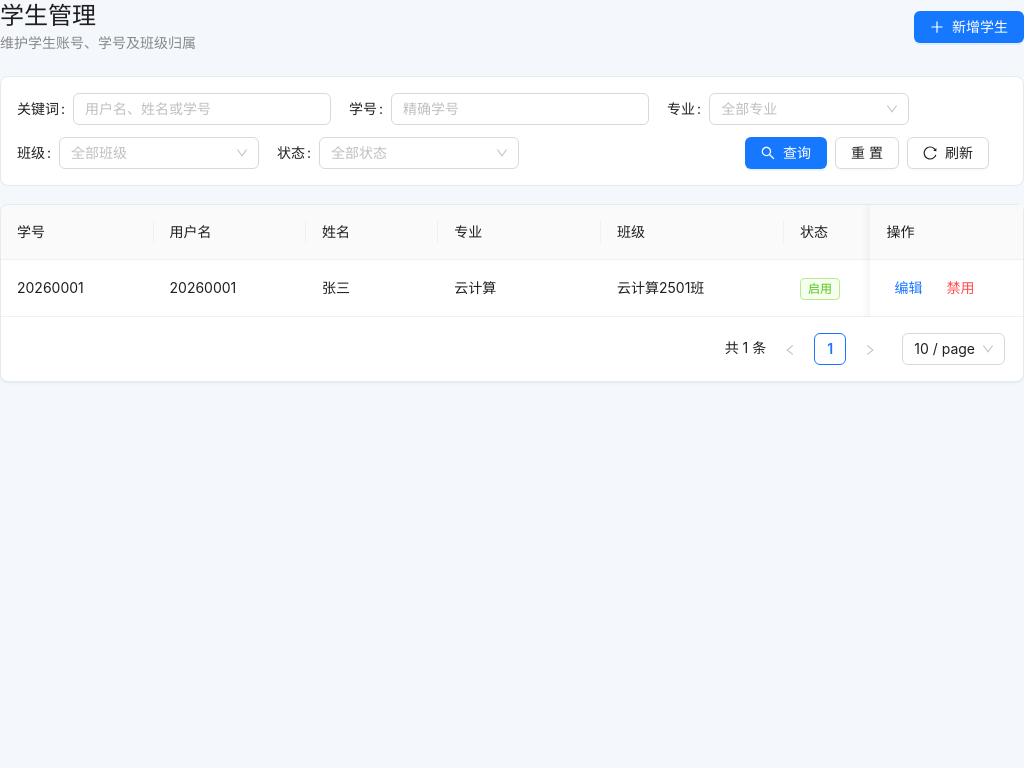
Test case: student management › loads only the selected major active classes
The image size is (1024, 768).
Expected: the text "张三" is shown, [306,260,438,317]
Click the button "新增学生" at [969, 27], box [914,11,1023,43]
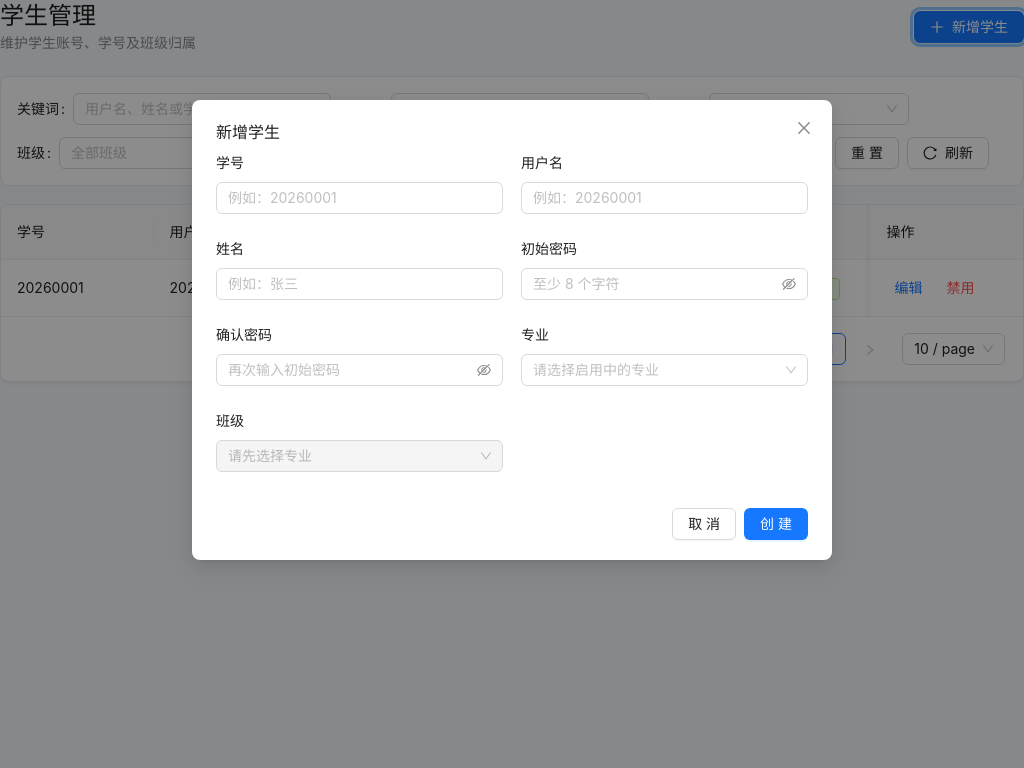
Click the dropdown labelled "专业" at [656, 370], box [533,355,778,385]
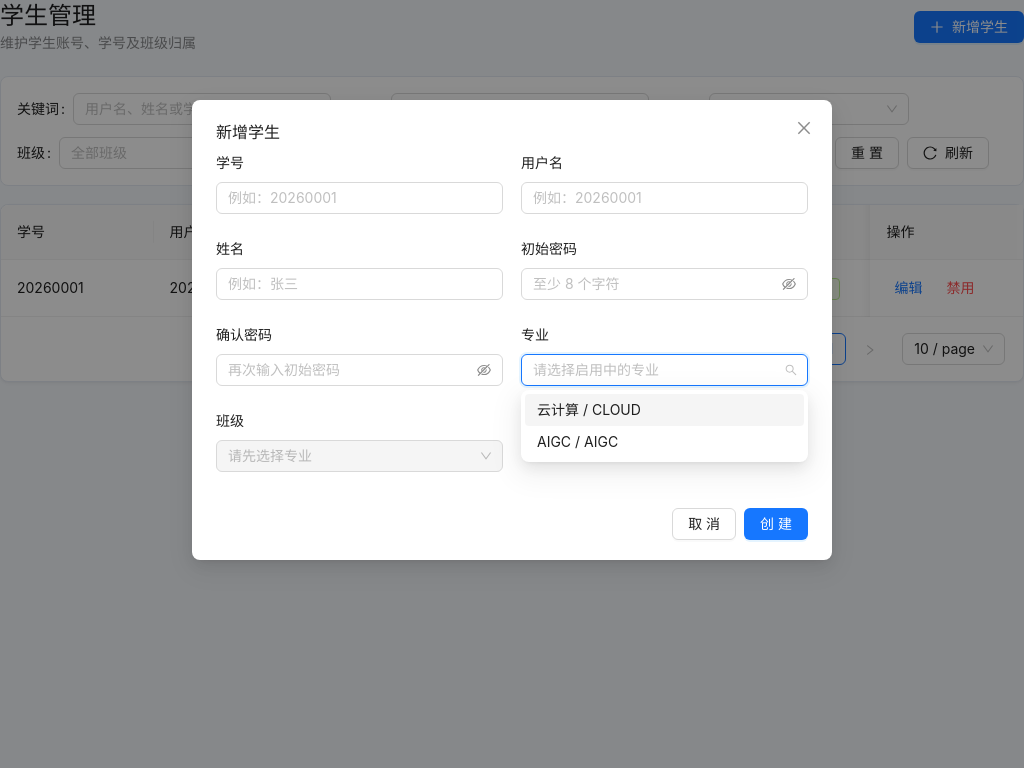
Click the text "AIGC / AIGC" at [578, 442], box [537,433,618,450]
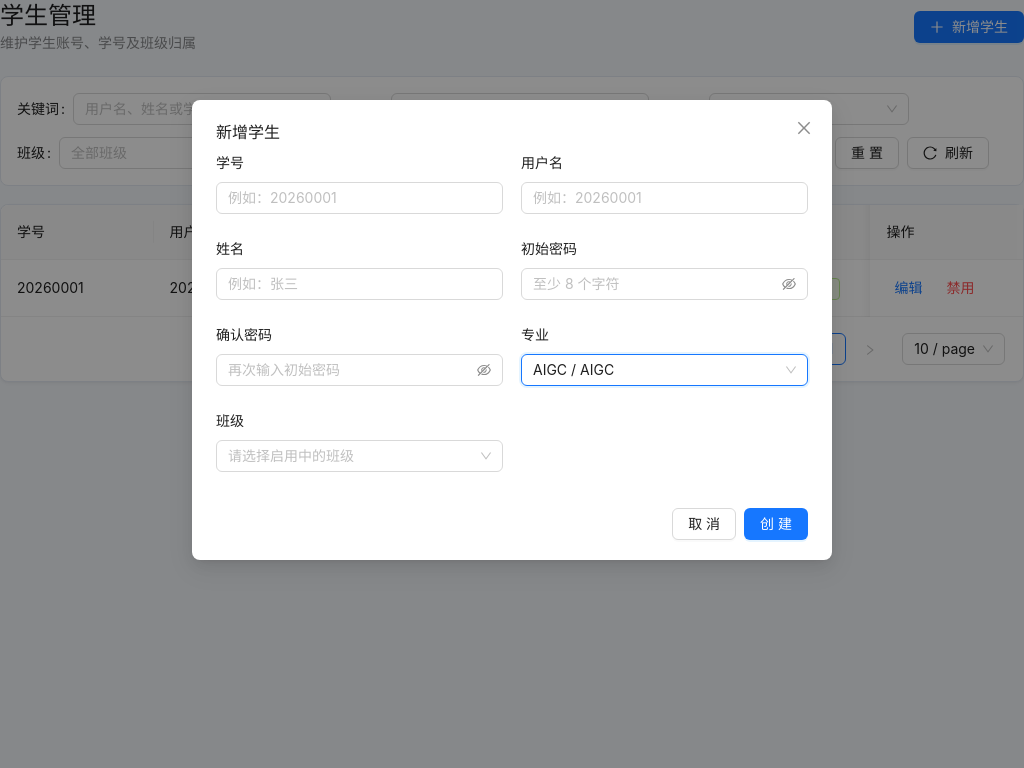
Click the dropdown labelled "班级" at [350, 456], box [228,441,473,471]
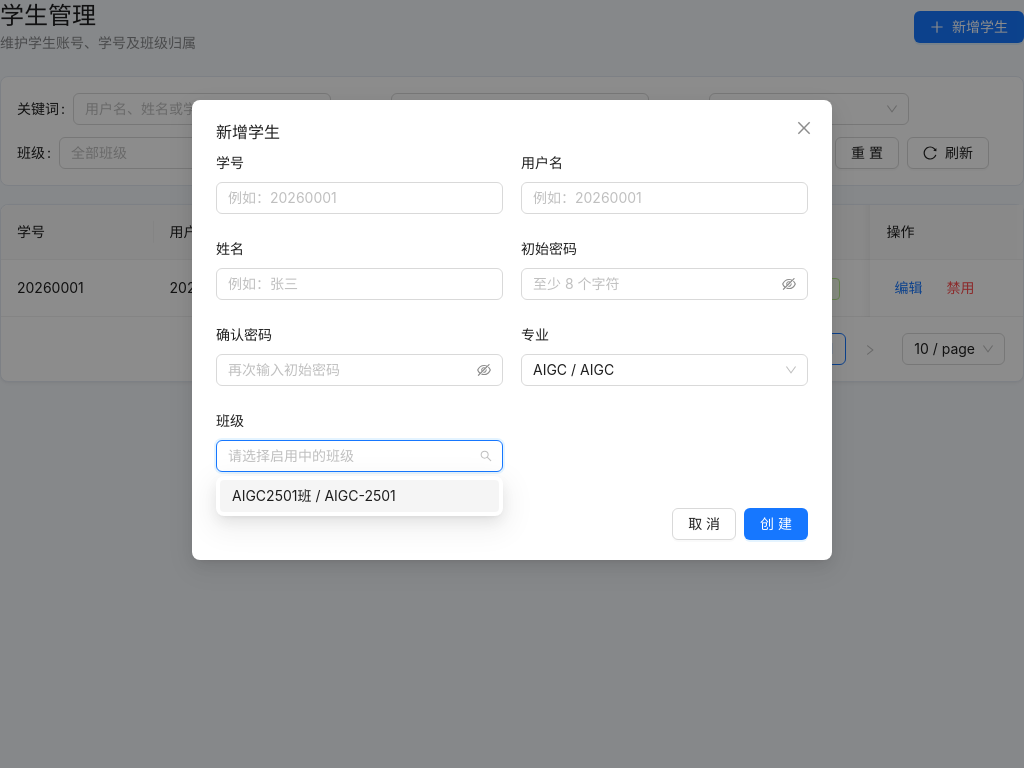
Result: the text "AIGC2501班 / AIGC-2501" is shown at [232,487,396,504]
